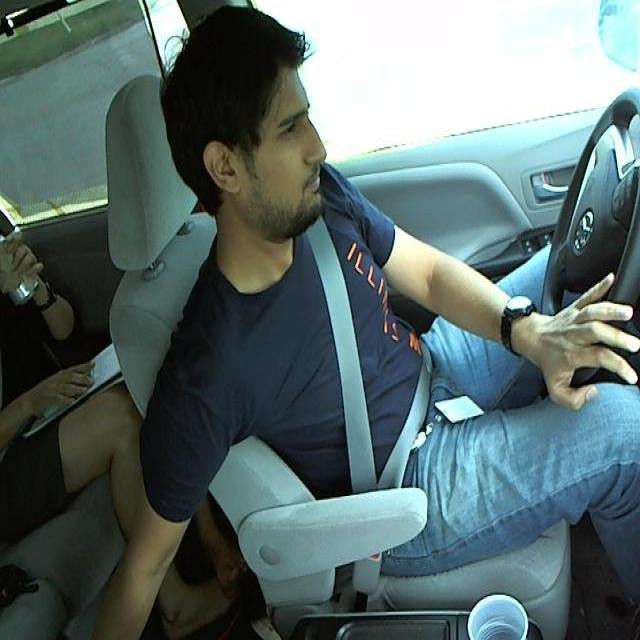seatbelt: (308, 239, 423, 476)
